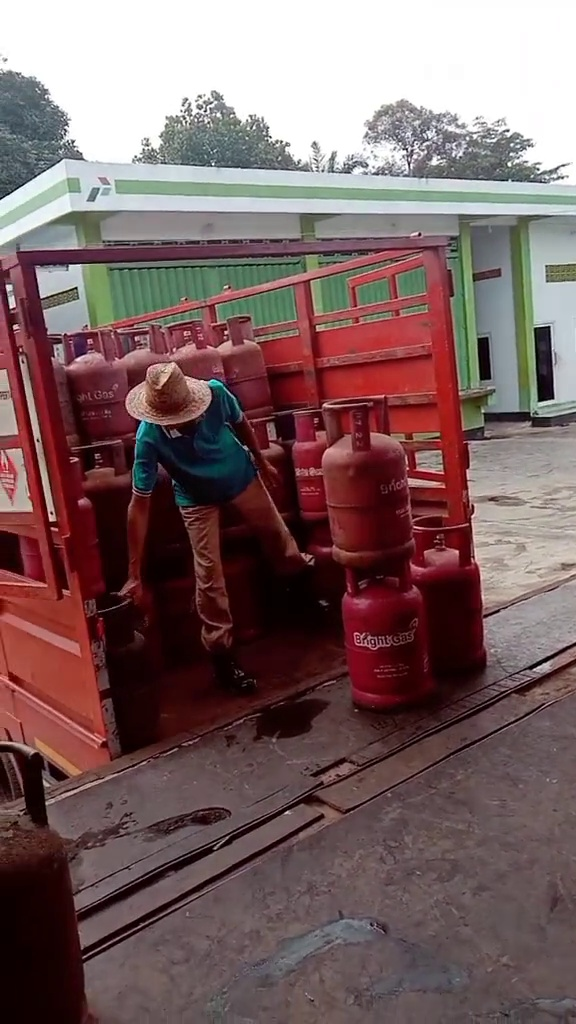bright_gas: (321, 396, 417, 558), (343, 561, 434, 717), (412, 514, 487, 686), (48, 329, 126, 455), (76, 463, 133, 582), (212, 314, 274, 420), (284, 404, 333, 526)
